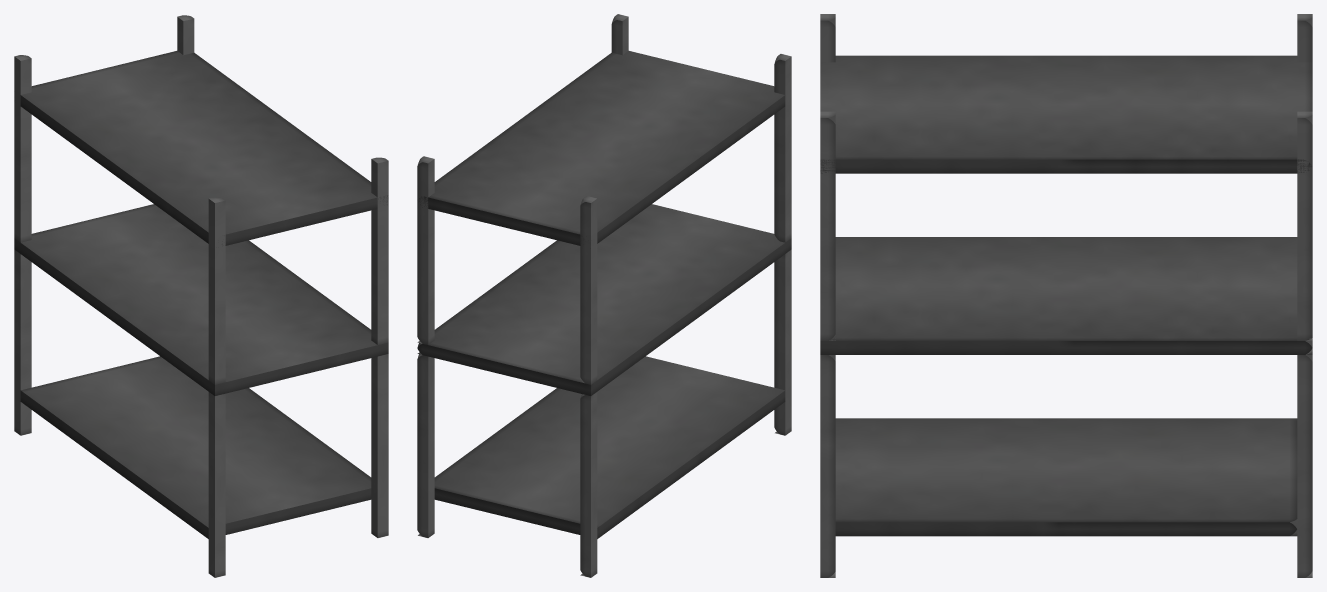
File: metal_shelf__empty.obj
3 renders of one model, left to right at view 1: azimuth 30°, elevation 25°; view 2: azimuth 150°, elevation 25°; view 3: azimuth 270°, elevation 25°, orthographic. The views are drawn at different scales.
Parts seen in each view (by area): view 1: xS, xM, xN, xP, xJ, xI, xR, xO, xK, xQ; view 2: xS, xM, xN, xO, xK, xL, xQ, xP, xJ, xR; view 3: xS, xN, xM, xQ, xR, xL, xI, xO, xP.
Part boxes in pixels (left/top/right/bottom): xS: left=14, top=51, right=388, bottom=245; xM: left=14, top=204, right=388, bottom=395; xN: left=20, top=356, right=371, bottom=538; xP: left=208, top=197, right=225, bottom=384; xJ: left=208, top=392, right=225, bottom=577; xI: left=371, top=354, right=388, bottom=537; xR: left=371, top=157, right=388, bottom=344; xO: left=14, top=55, right=31, bottom=242; xK: left=14, top=249, right=31, bottom=435; xQ: left=177, top=15, right=194, bottom=55; xS: left=417, top=51, right=785, bottom=245; xM: left=417, top=204, right=791, bottom=395; xN: left=434, top=356, right=785, bottom=538; xO: left=580, top=196, right=597, bottom=384; xK: left=580, top=392, right=597, bottom=577; xL: left=417, top=354, right=434, bottom=537; xQ: left=417, top=156, right=434, bottom=344; xP: left=774, top=54, right=791, bottom=242; xJ: left=774, top=249, right=791, bottom=435; xR: left=611, top=14, right=628, bottom=55; xS: left=820, top=55, right=1312, bottom=173; xN: left=835, top=418, right=1297, bottom=536; xM: left=820, top=237, right=1312, bottom=354; xQ: left=1297, top=111, right=1312, bottom=340; xR: left=820, top=111, right=835, bottom=340; xL: left=1297, top=348, right=1312, bottom=577; xI: left=820, top=355, right=835, bottom=577; xO: left=1297, top=14, right=1312, bottom=62; xP: left=820, top=14, right=835, bottom=62.
Size of the model in its own units: 1 by 2.06 by 2.
1 material, 1 textured.
